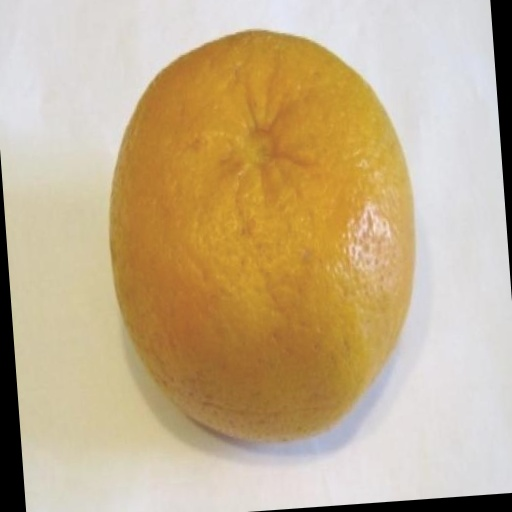fruit: (110, 31, 414, 440)
